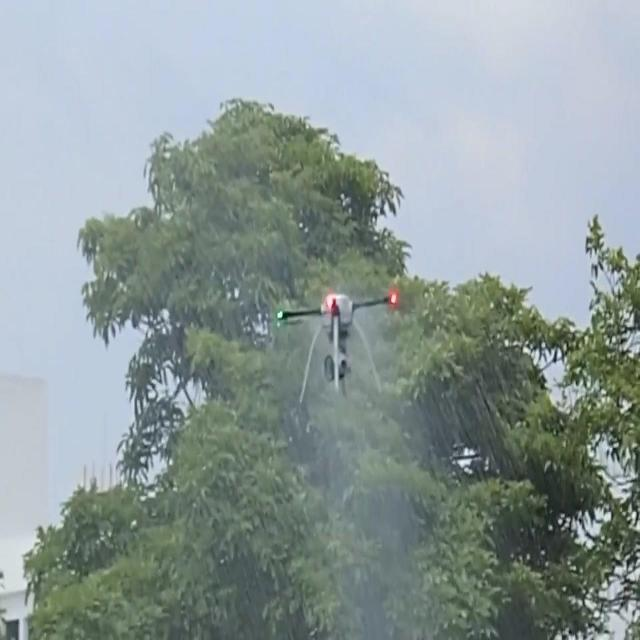UAV: (275, 288, 399, 404)
